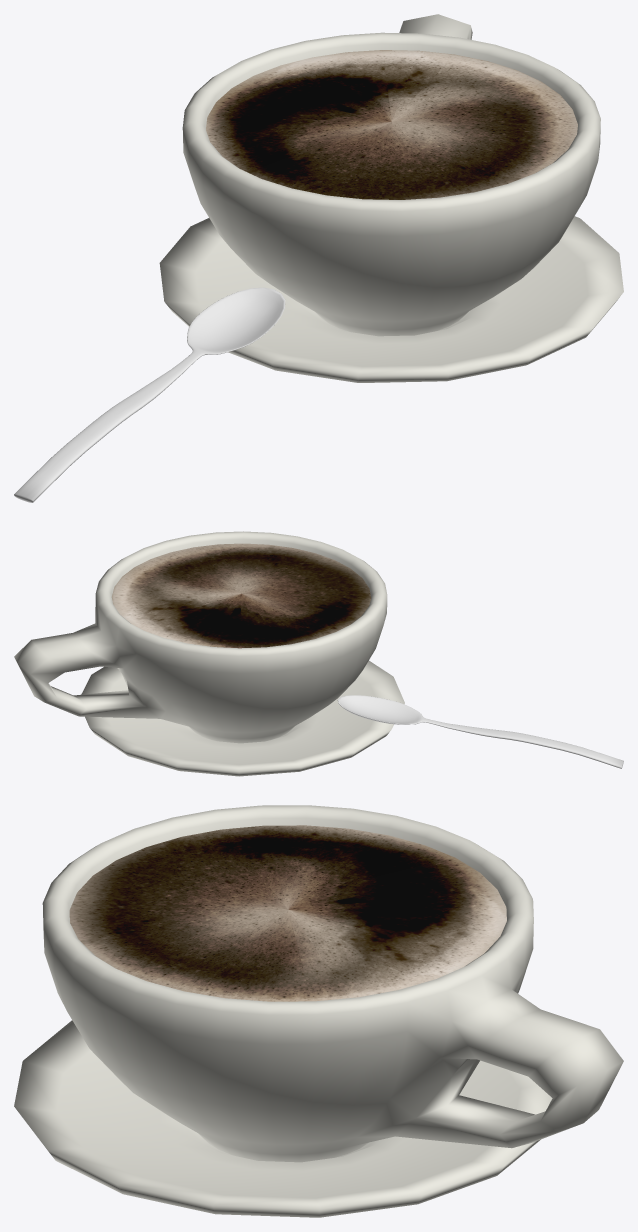
File: CoffeeCup.fbx
3 renders of one model, top to bottom at view 1: azimuth 30°, elevation 25°; view 2: azimuth 150°, elevation 25°; view 3: azimuth 270°, elevation 25°, orthographic. The views are drawn at different scales.
Parts seen in each view (by area): view 1: CoffeeCup, Coffee, CupPlate, Spoon; view 2: CoffeeCup, Coffee, CupPlate, Spoon; view 3: CoffeeCup, Coffee, CupPlate.
Boxes of the visible parts, box(x1,y1,x2,y2) form: CoffeeCup: box(182, 14, 600, 336); Coffee: box(206, 50, 577, 199); CupPlate: box(159, 216, 623, 382); Spoon: box(14, 287, 285, 502); CoffeeCup: box(14, 531, 387, 743); Coffee: box(111, 543, 371, 648); CupPlate: box(81, 660, 404, 776); Spoon: box(337, 695, 623, 768); CoffeeCup: box(42, 805, 623, 1162); Coffee: box(69, 825, 506, 1001); CupPlate: box(14, 1020, 552, 1217).
Size of the model in its own units: 16.32 by 4.83 by 11.01.
